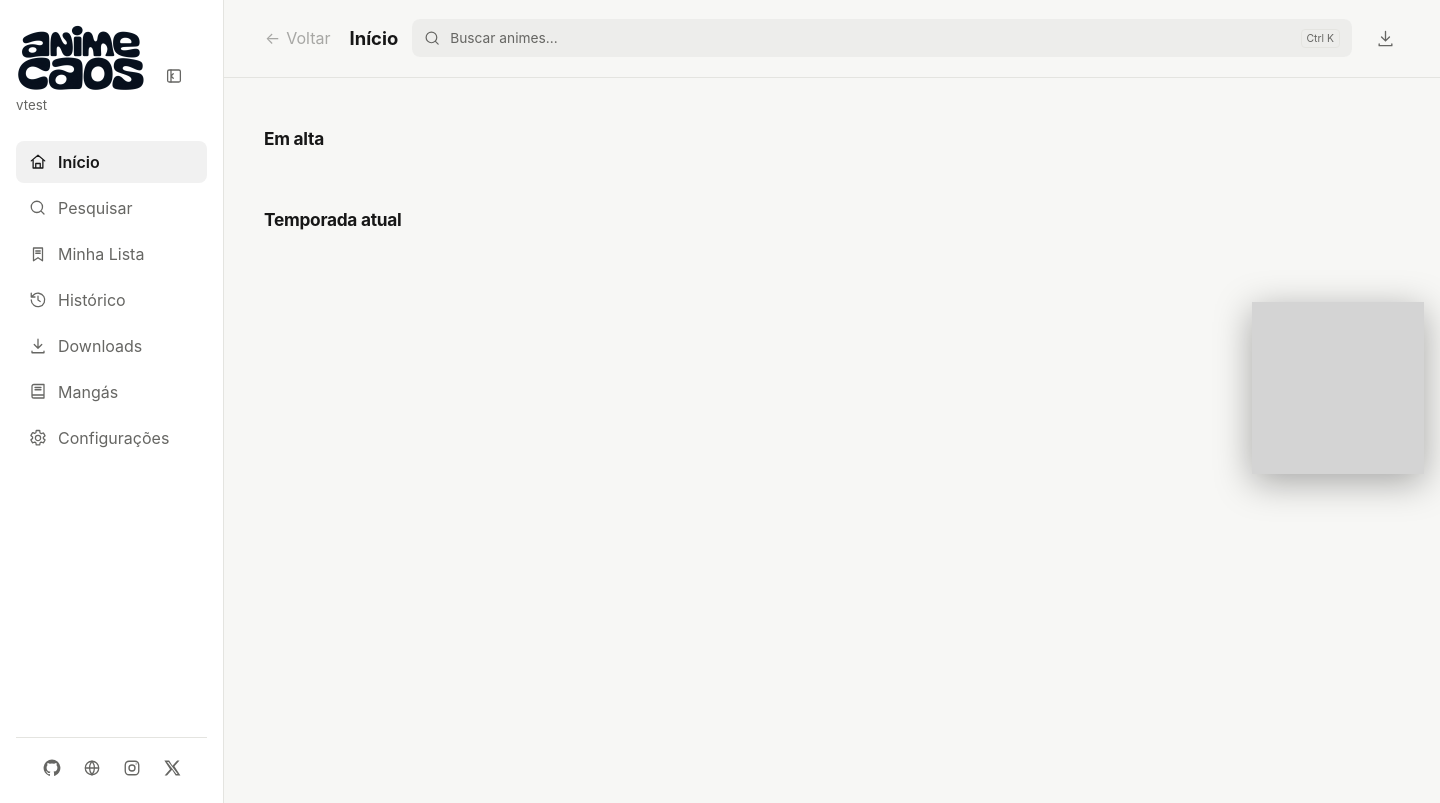
Test case: interface funcional › coalesce mudanças rápidas em um salvamento com o estado mais recente
Click the button "Configurações" at (112, 438), box x1=16 y1=417 x2=207 y2=459
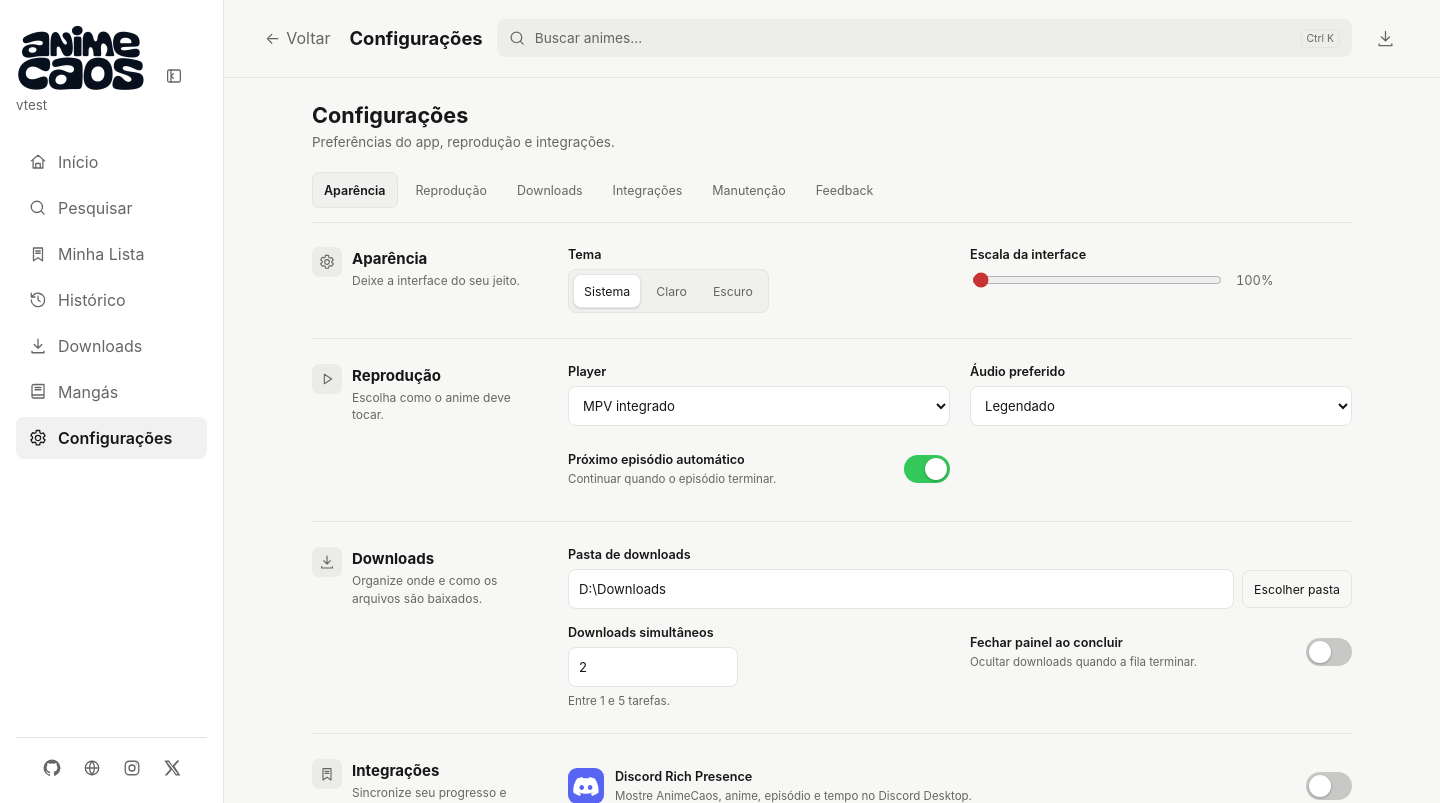
Click the button "Escuro" at (733, 291), box x1=702 y1=274 x2=764 y2=308
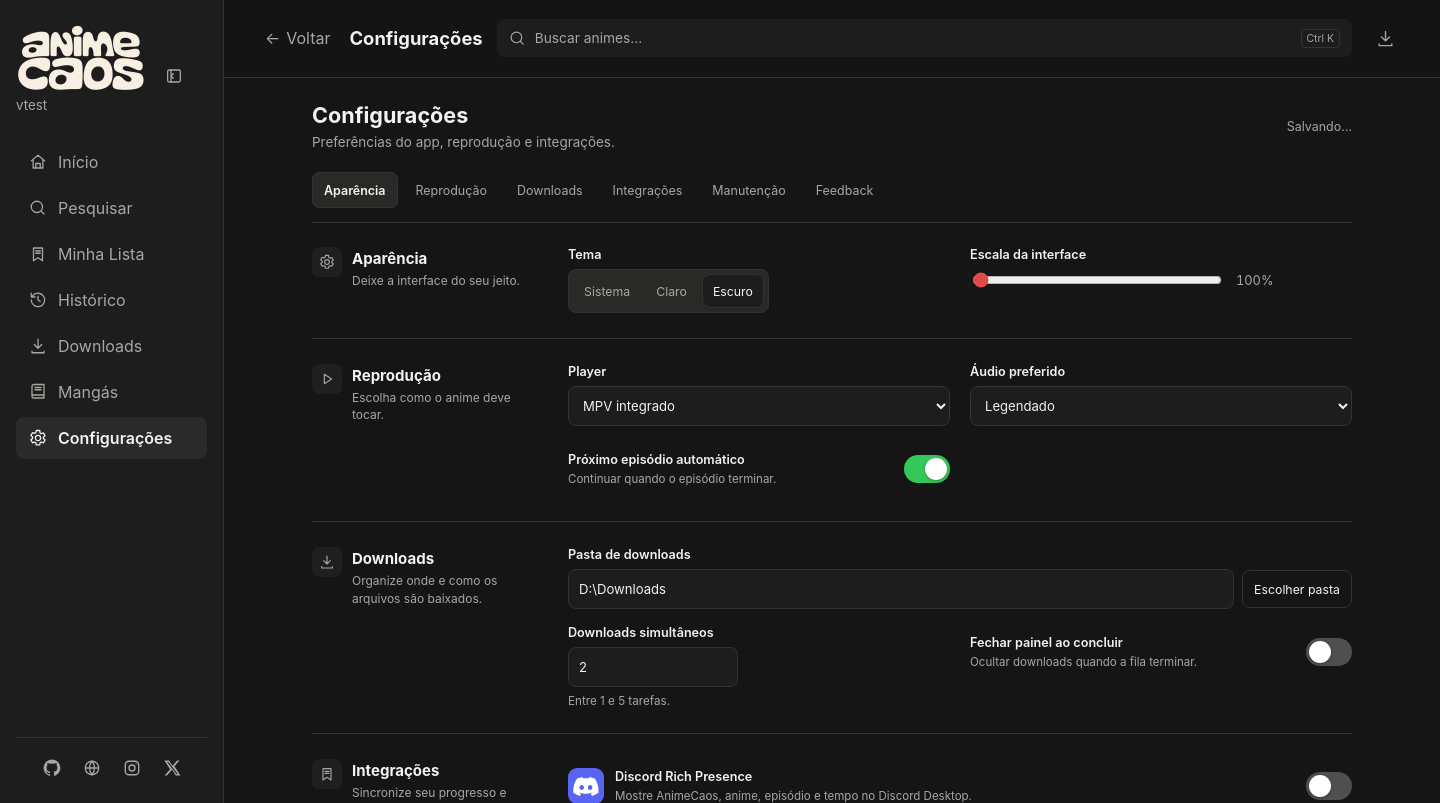
Set the slider labelled "Escala da interface" to "1.25" at (1097, 280), box x1=972 y1=271 x2=1222 y2=289
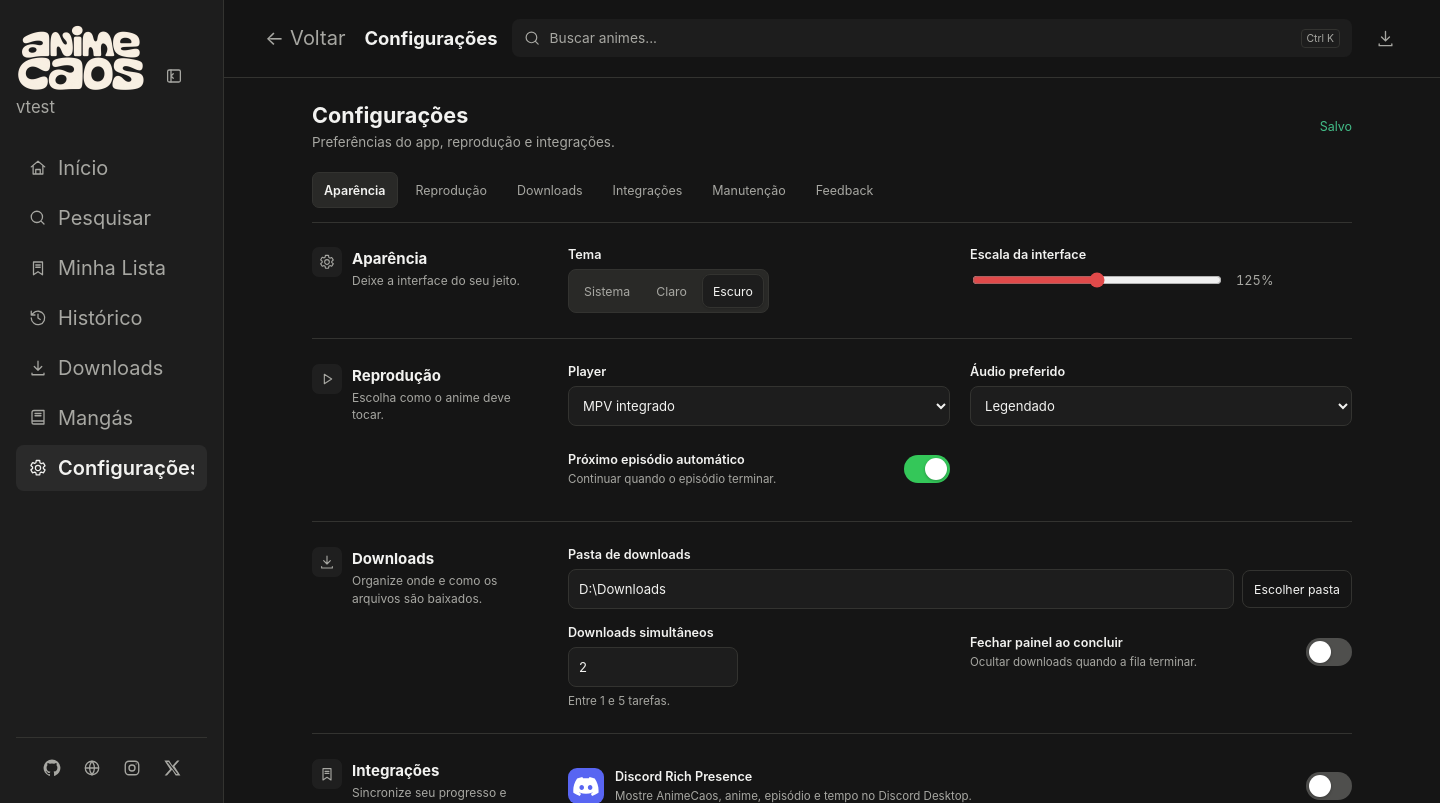
Check: the text "125%" is shown, box x1=1236 y1=272 x2=1280 y2=288
